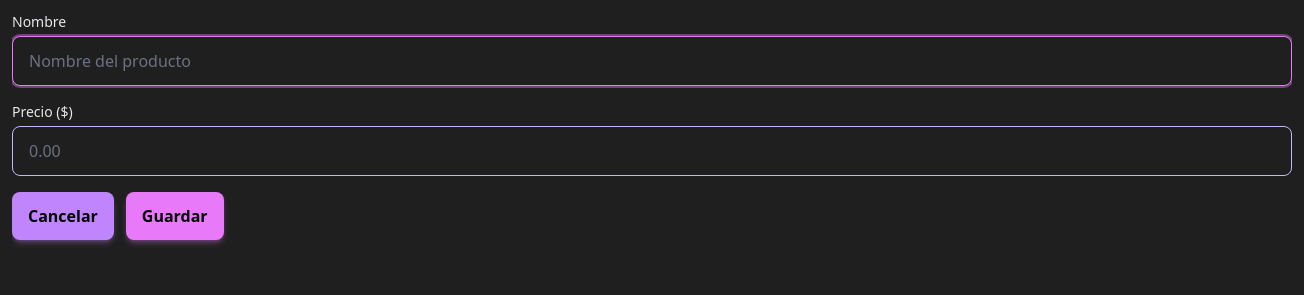
Test: ProductoForm › shows error when precio is 0
Type "Cerveza" into the field with placeholder "Nombre del producto" at (652, 61), box [12,36,1292,86]
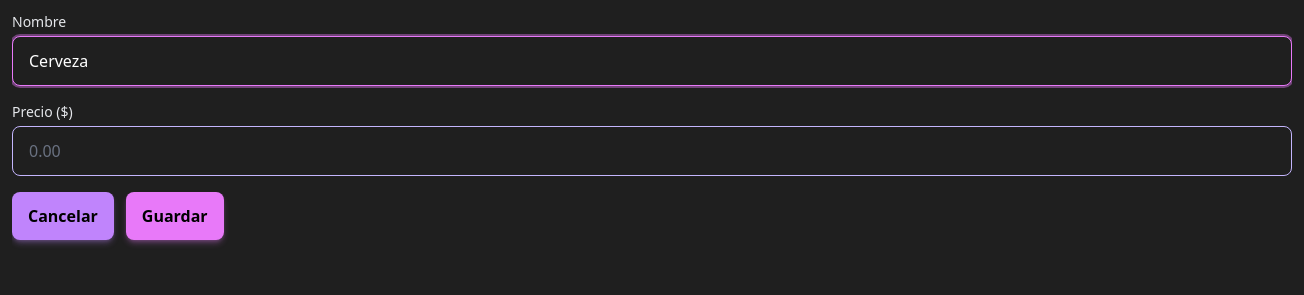
Click the button "Guardar" at (175, 216), box [126,192,224,240]
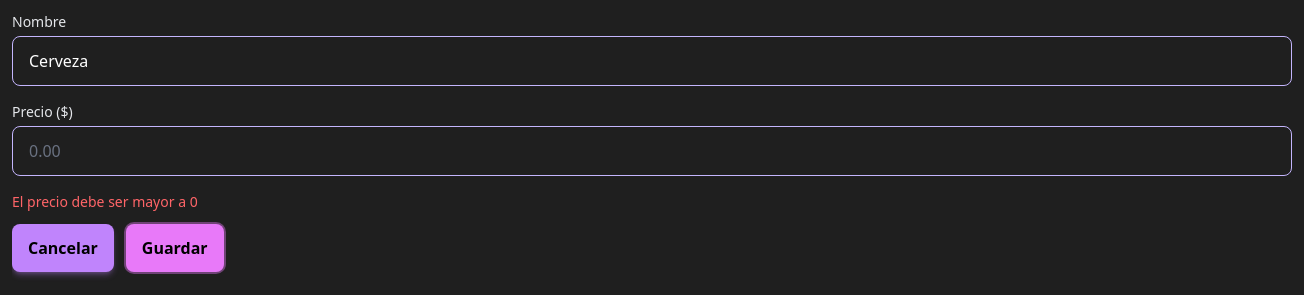
Expected: the text "El precio debe ser mayor a 0" is shown, [12,192,198,211]
